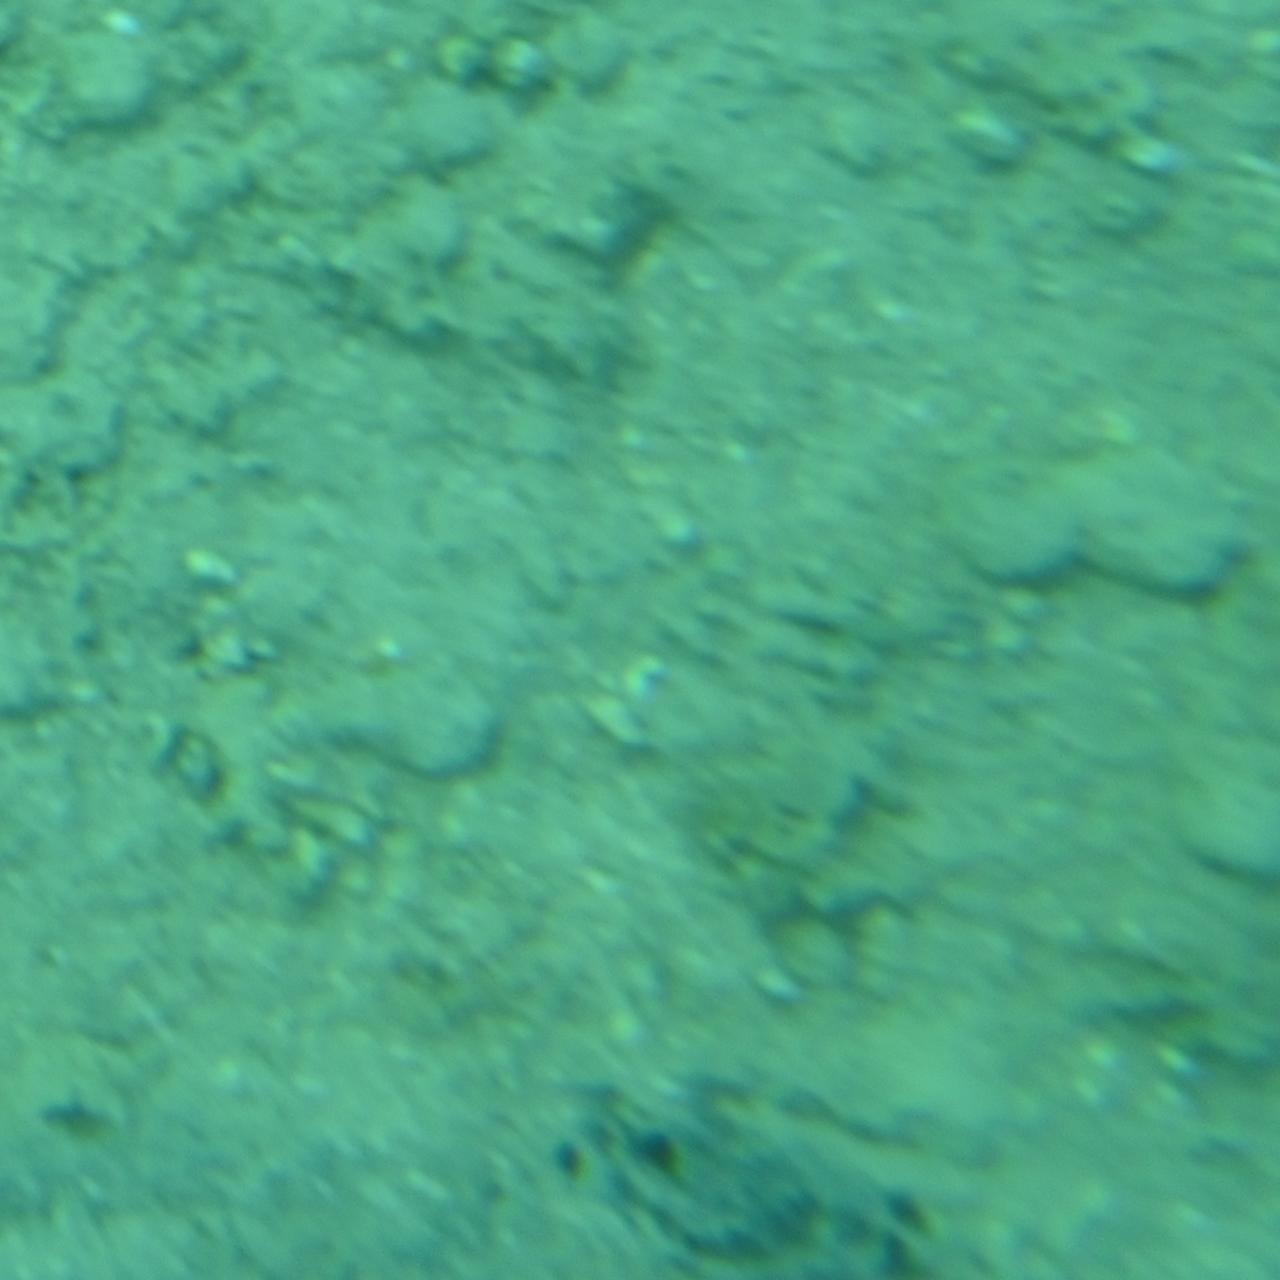Keratosa -cfr Sarcotragus-: (531, 1085, 932, 1279)
